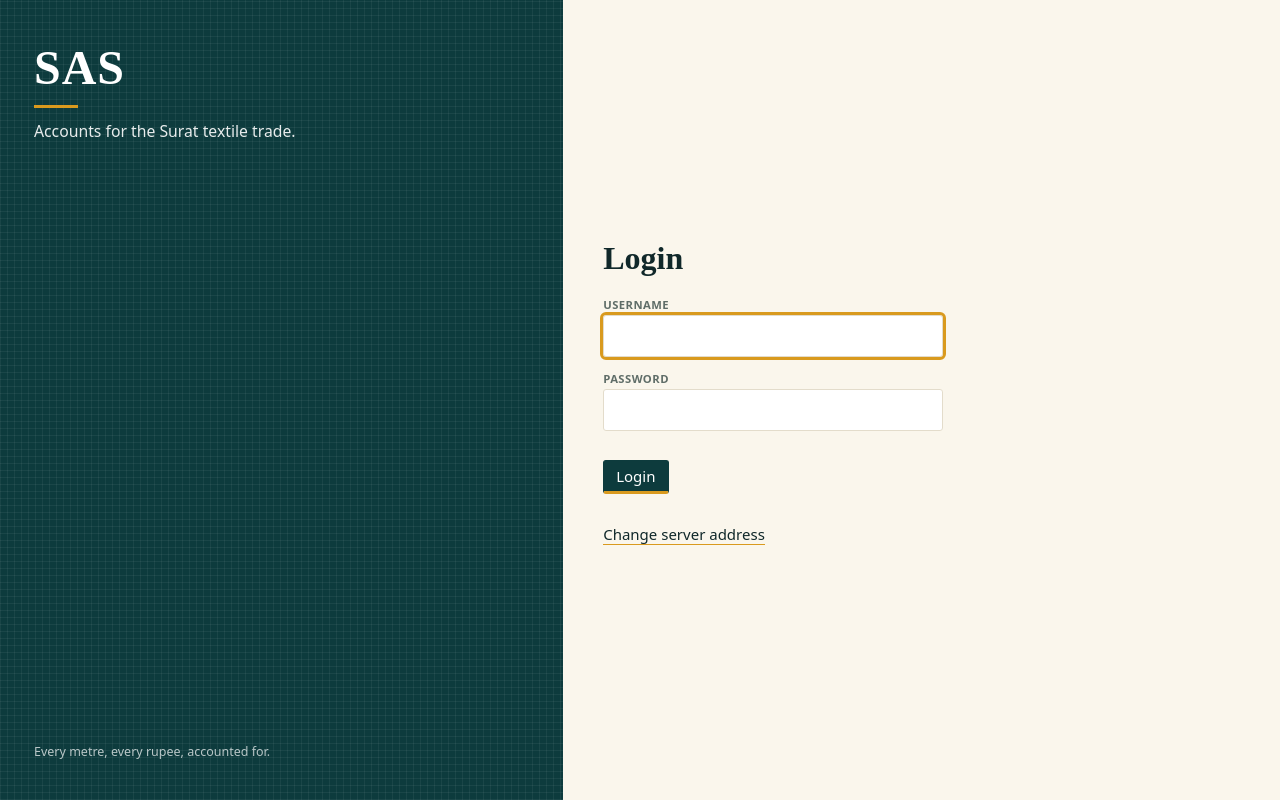
Scenario: App start-up and login › signs in with the keyboard and shows the company and year
The image size is (1280, 800).
Type "boss" into the field labelled "Username".
click(773, 336); type("boss")  # box x1=603 y1=315 x2=943 y2=357
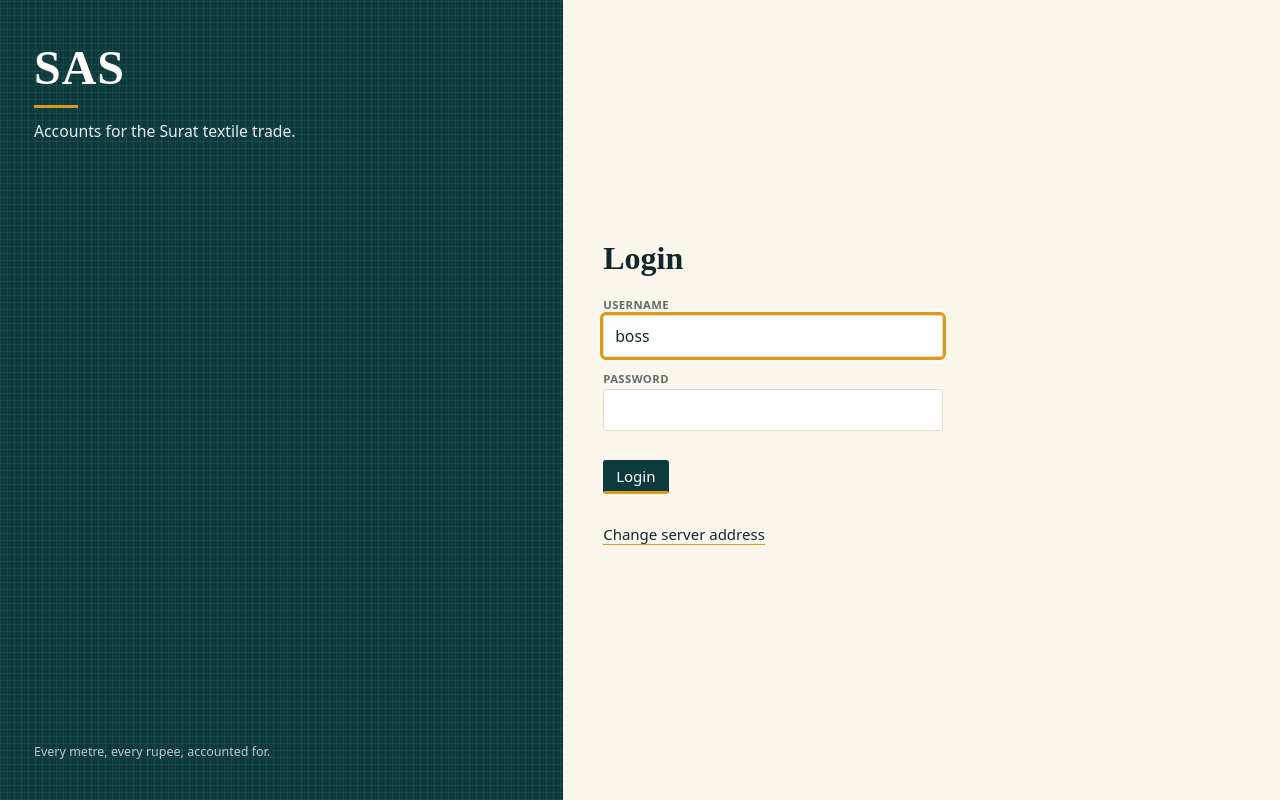
Type "secret" into the password field labelled "Password".
click(773, 410); type("secret")  # box x1=603 y1=389 x2=943 y2=431
Then press Enter
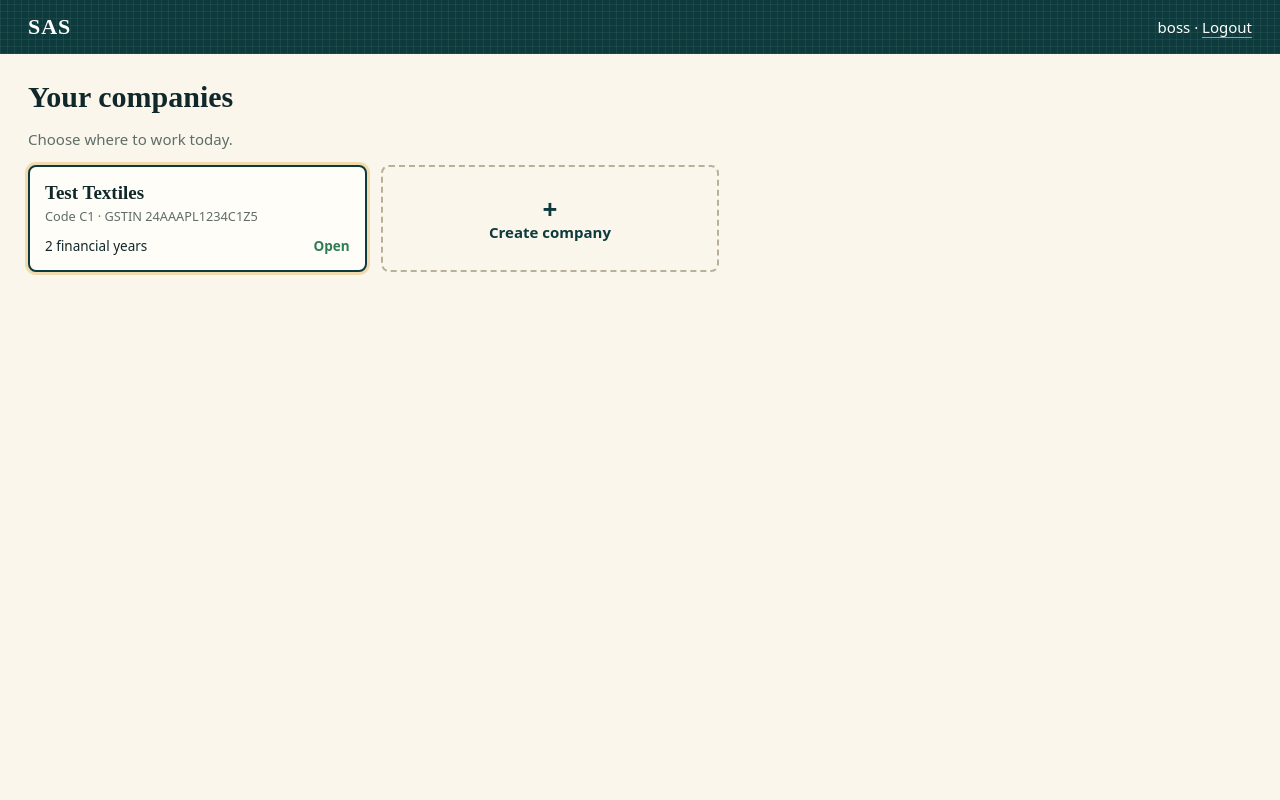
Check: the heading "Your companies" is shown, box x1=28 y1=80 x2=233 y2=113
Press Enter
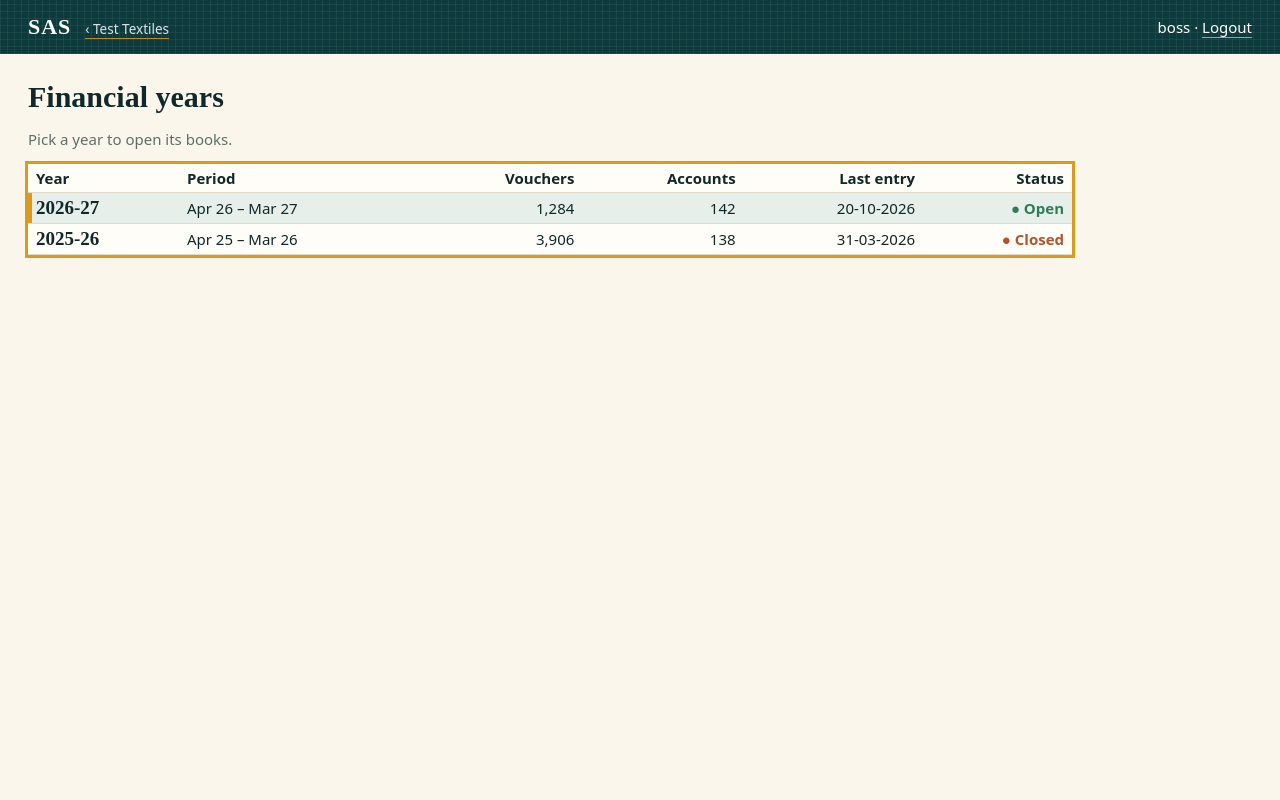
Check: the heading "Financial years" is shown, box x1=28 y1=80 x2=224 y2=113
Press Enter
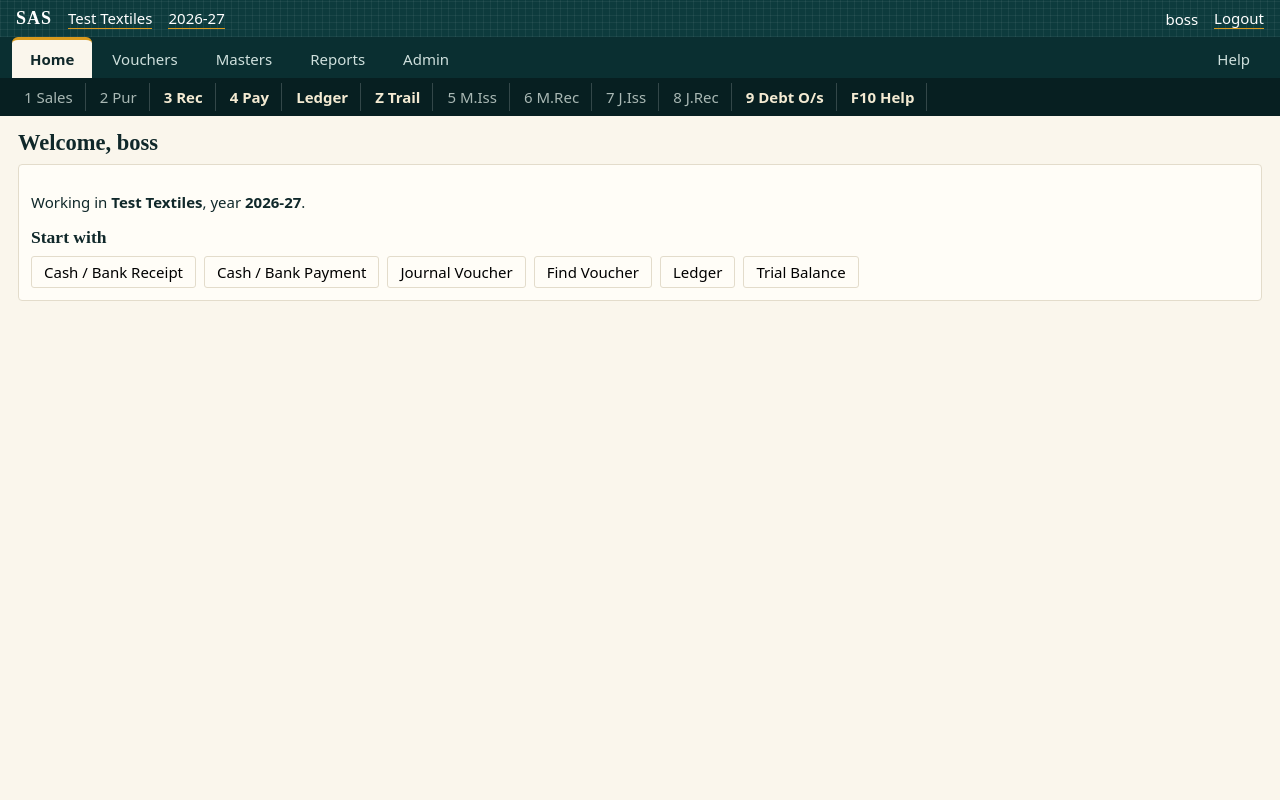
Check: the heading "Welcome, boss" is shown, box x1=18 y1=130 x2=158 y2=155
Check: the button "Test Textiles" is shown, box x1=68 y1=8 x2=152 y2=29
Check: the button "2026-27" is shown, box x1=168 y1=8 x2=225 y2=29
